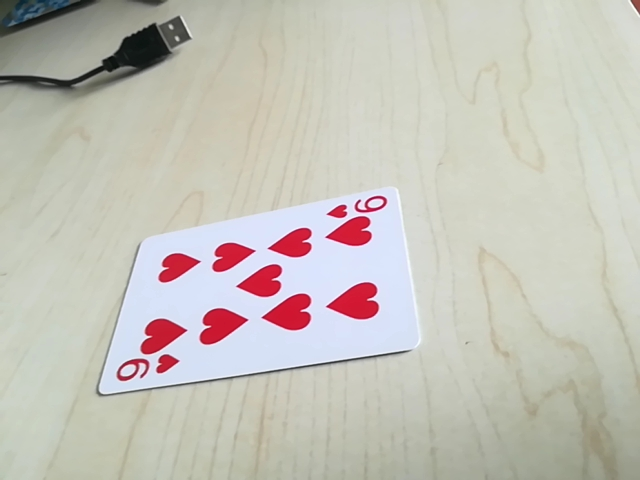hx 9: (113, 353, 182, 387), (326, 193, 394, 222)
